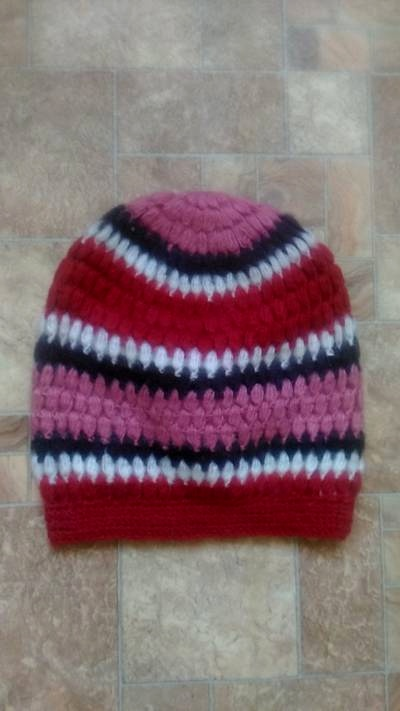Hat: (12, 169, 393, 552)
